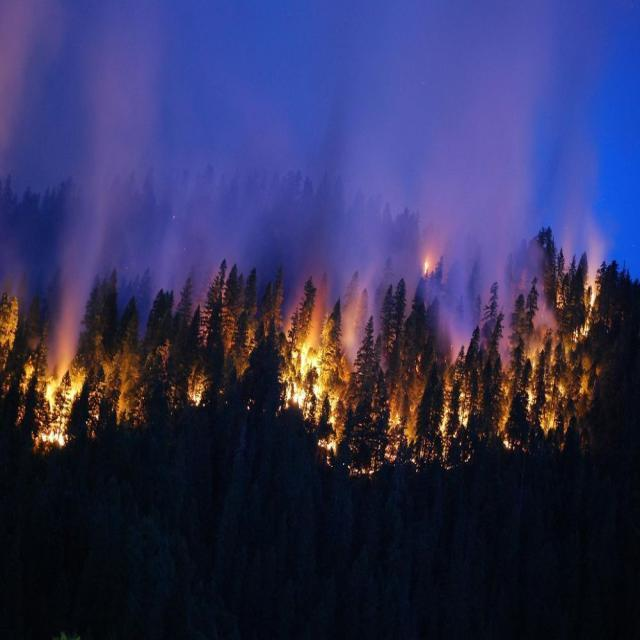Fire: (2, 304, 612, 462)
Smoke: (2, 2, 640, 342)
